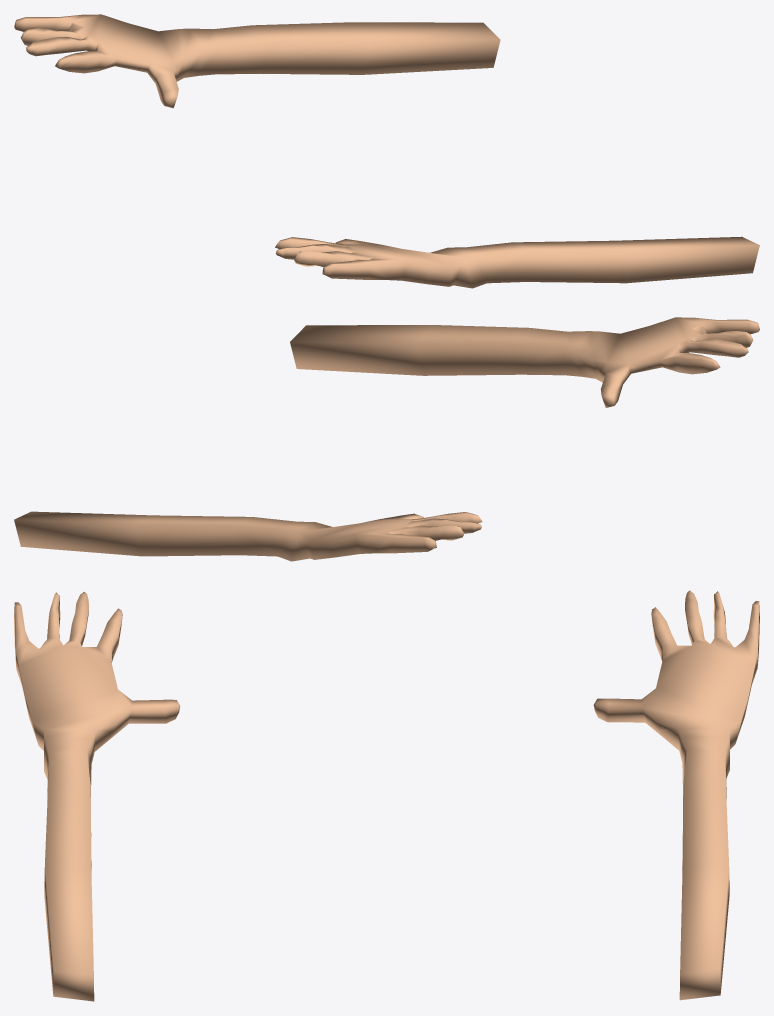
Rendered from PlayerArms - Copy.fbx.
The picture shows the model from 3 angles, top to bottom: view 1: azimuth 30°, elevation 25°; view 2: azimuth 150°, elevation 25°; view 3: azimuth 270°, elevation 25°; orthographic projection. The views are drawn at different scales.
Parts seen in each view (by area): view 1: RightArm, LeftArm; view 2: LeftArm, RightArm; view 3: RightArm, LeftArm.
Boxes of the visible parts, x1,y1,x2,y2 form: RightArm: (14,14,500,108); LeftArm: (275,236,759,288); LeftArm: (290,317,759,407); RightArm: (14,511,482,561); RightArm: (593,590,759,1000); LeftArm: (14,592,180,1001).
Bounding box in the file's own units: 1200 × 338 × 1393.
